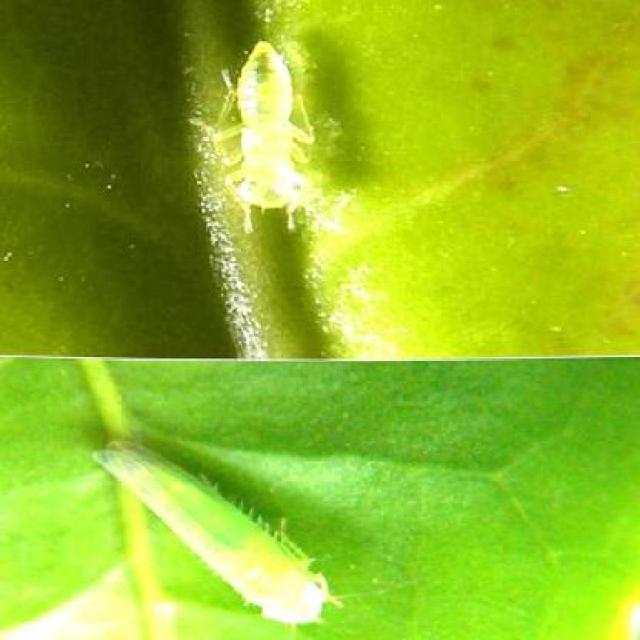green-leafhopper: (96, 440, 338, 629), (195, 37, 337, 235)
